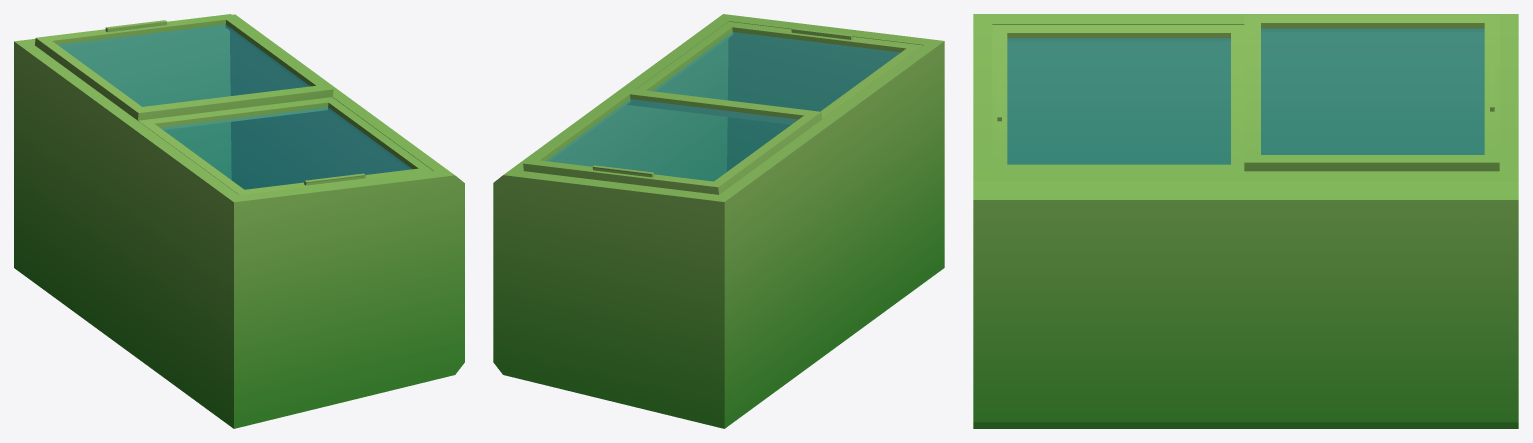
The model's file is ice_fridge_green.fbx.
3 views of the same model, side by side, from view 1: azimuth 30°, elevation 25°; view 2: azimuth 150°, elevation 25°; view 3: azimuth 270°, elevation 25° (orthographic). The views are drawn at different scales.
Parts seen in each view (by area): view 1: ice_fridge_green, ice_fridge_door1_green, ice_fridge_door2_green; view 2: ice_fridge_green, ice_fridge_door1_green, ice_fridge_door2_green; view 3: ice_fridge_green, ice_fridge_door1_green, ice_fridge_door2_green.
Part boxes in pixels (<box>): ice_fridge_green: <box>14,14,464,428</box>; ice_fridge_door1_green: <box>35,14,333,120</box>; ice_fridge_door2_green: <box>138,97,433,194</box>; ice_fridge_green: <box>493,14,944,428</box>; ice_fridge_door1_green: <box>523,88,821,194</box>; ice_fridge_door2_green: <box>627,21,922,124</box>; ice_fridge_green: <box>973,14,1518,428</box>; ice_fridge_door1_green: <box>1244,15,1499,171</box>; ice_fridge_door2_green: <box>992,25,1244,171</box>.
Size of the model in its own units: 652 by 627 by 1076.
